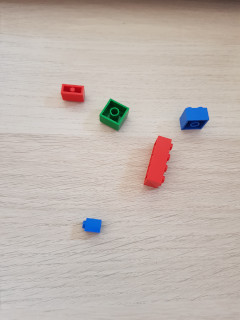1x1 blue: (79, 217, 103, 236)
1x2 red: (61, 84, 84, 102)
2x2 blue: (180, 106, 209, 132)
2x2 green: (98, 98, 129, 131)
2x4 red: (145, 136, 174, 190)
